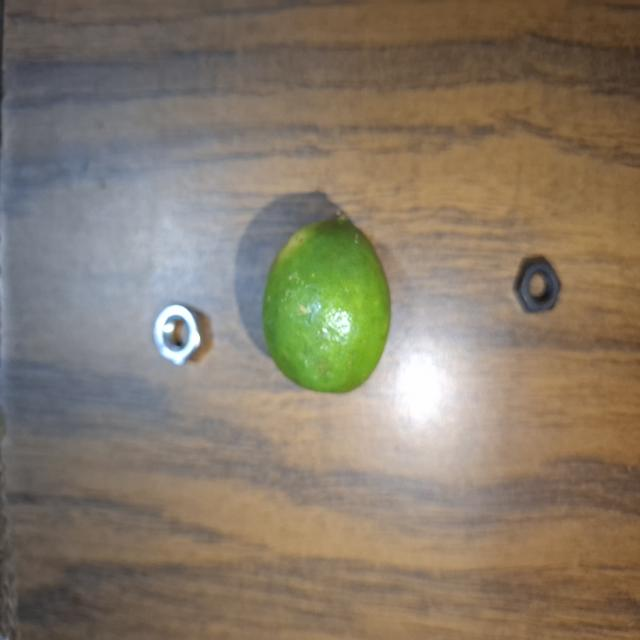limon: (257, 208, 393, 398)
milimetrico: (507, 251, 568, 319)
tuerca: (151, 298, 219, 380)
